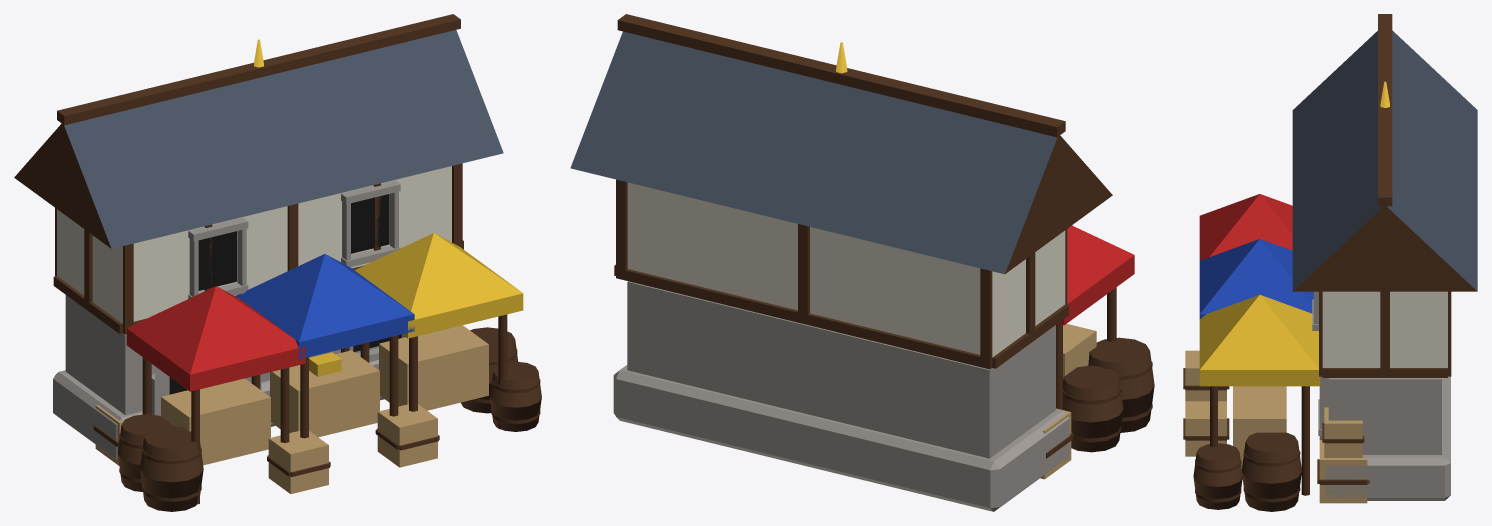
The model's file is AoE4_Market.obj.
The picture shows the model from 3 angles, left to right: view 1: azimuth 30°, elevation 25°; view 2: azimuth 150°, elevation 25°; view 3: azimuth 270°, elevation 25°; orthographic projection. The views are drawn at different scales.
Size of the model in its own units: 3.64 by 3.15 by 2.47.
